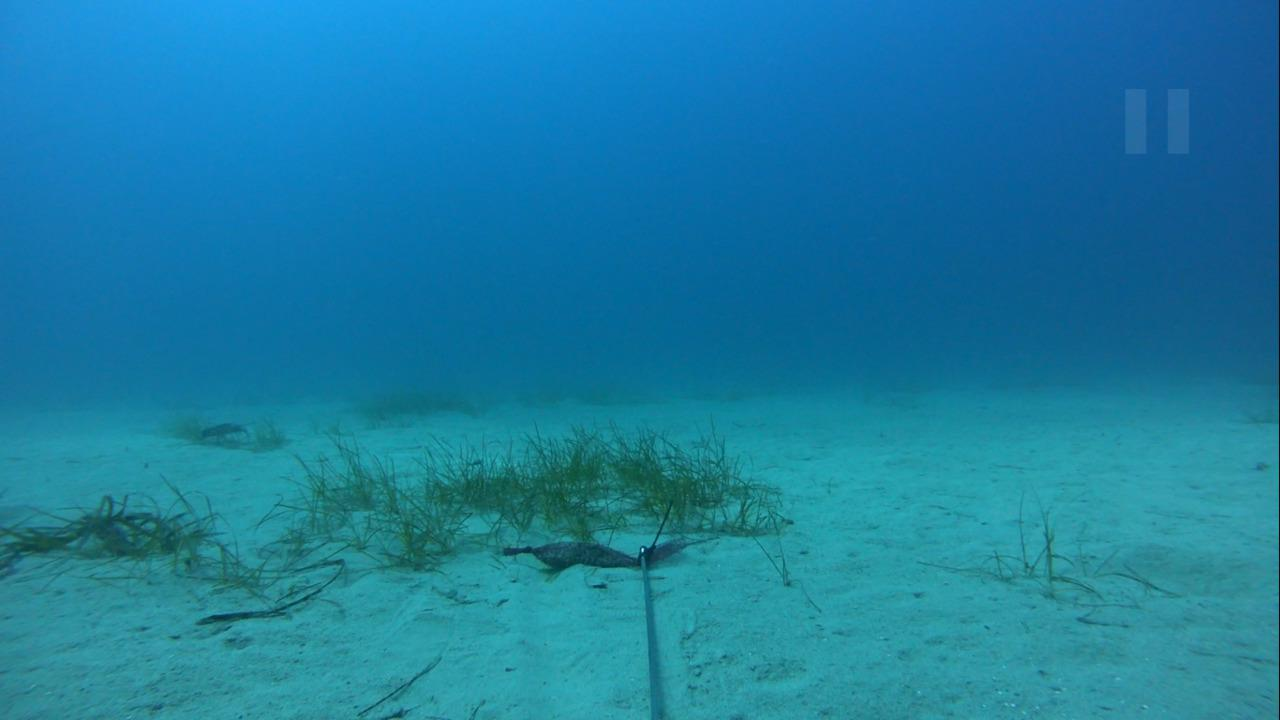dactylopterus: (182, 411, 264, 446)
